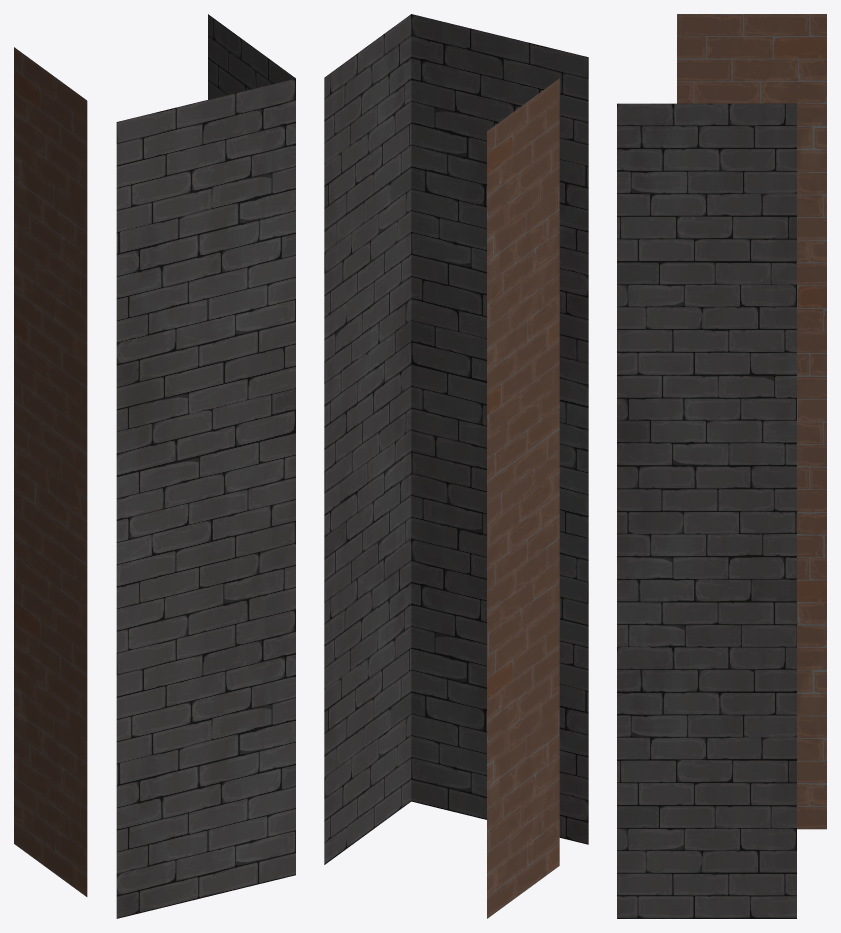
Rendered from WornBrick_90Angle_L.gltf.
3 views of the same model, side by side, from view 1: azimuth 30°, elevation 25°; view 2: azimuth 150°, elevation 25°; view 3: azimuth 270°, elevation 25° (orthographic). The views are drawn at different scales.
Parts seen in each view (by area): view 1: WornBrick_90Angle_L; view 2: WornBrick_90Angle_L; view 3: WornBrick_90Angle_L.
Part boxes in pixels (x1,y1,x2,y2): WornBrick_90Angle_L: [14, 14, 295, 918]; WornBrick_90Angle_L: [324, 14, 588, 918]; WornBrick_90Angle_L: [617, 14, 826, 918].
Bounding box in the file's own units: 0.7062 × 3 × 0.7.
Materials: 2 (2 with a texture image).
